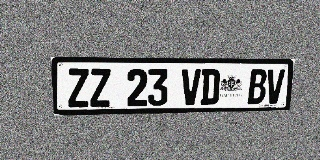2: (127, 69, 147, 106)
3: (148, 69, 168, 106)
B: (247, 69, 267, 104)
D: (200, 69, 220, 105)
V: (181, 69, 201, 105), (265, 69, 285, 104)
Z: (67, 68, 90, 107), (89, 69, 111, 107)
